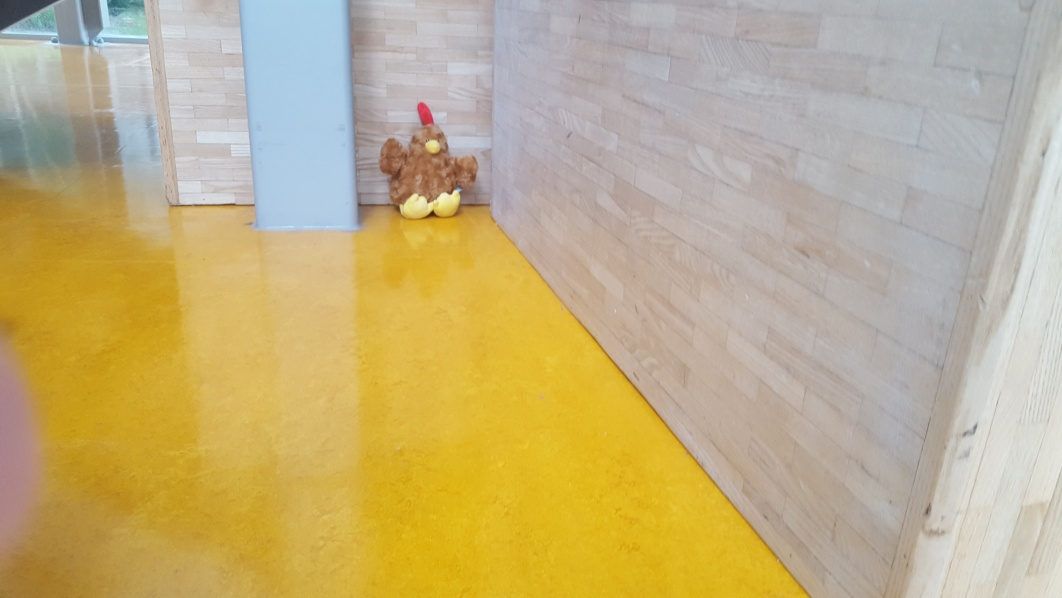chicken: (377, 102, 481, 222)
